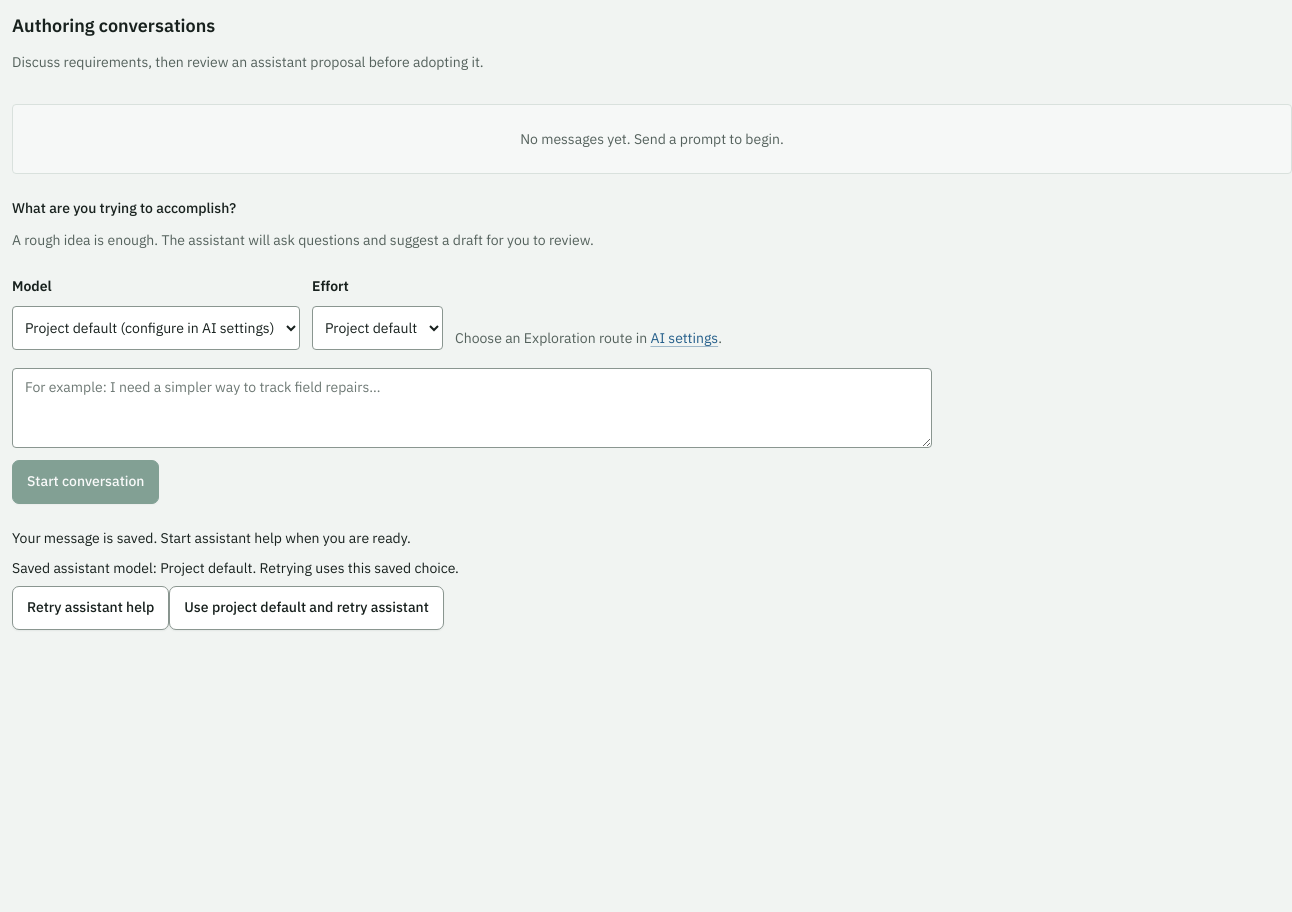
Test: AuthoringWorkspace › freezes the current version after a pending saved-turn read resolves
Click the button "Retry assistant help" at (91, 608), box [12,586,169,630]
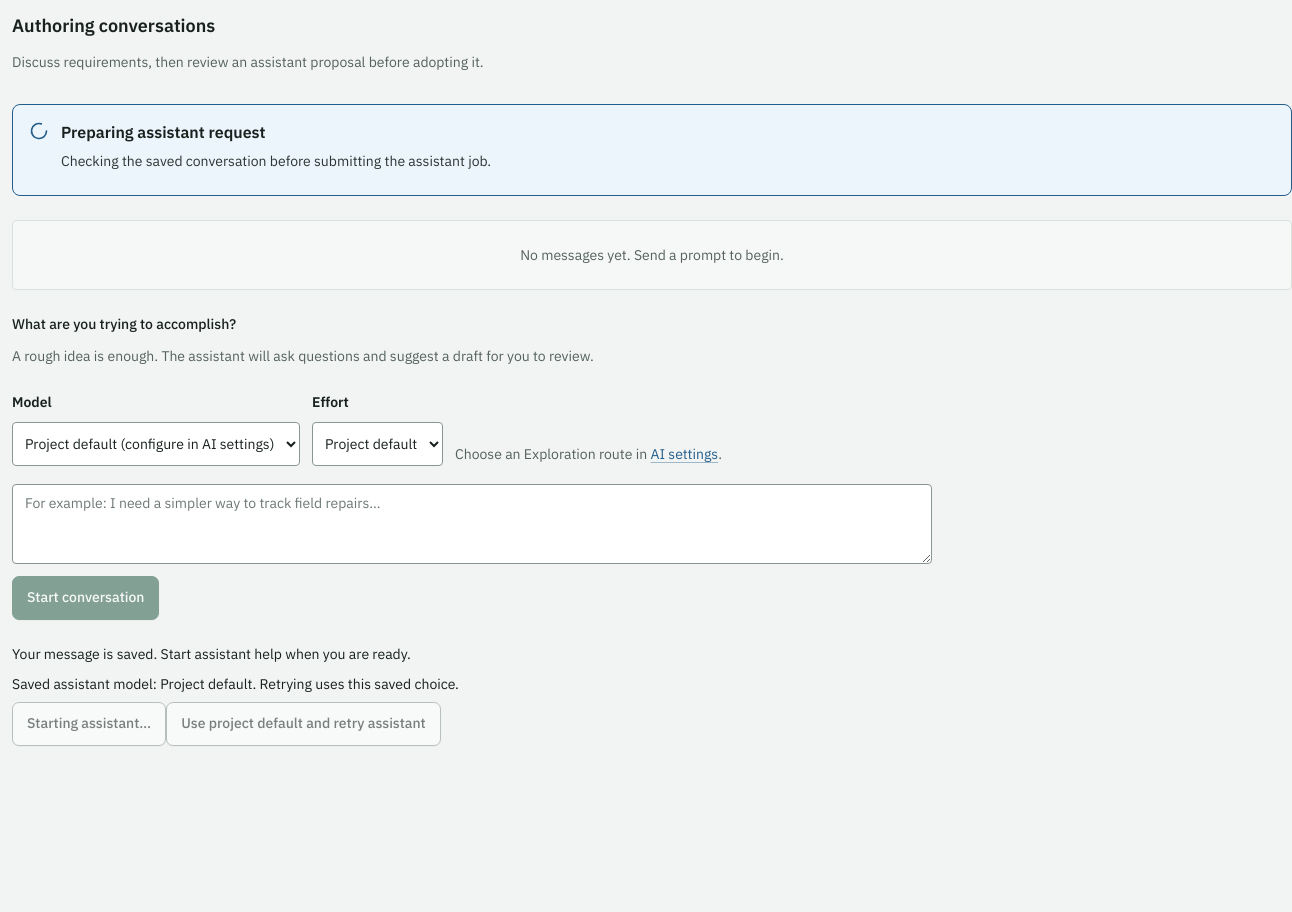
Check: the button "Starting assistant…" is shown, box [12,702,166,746]
